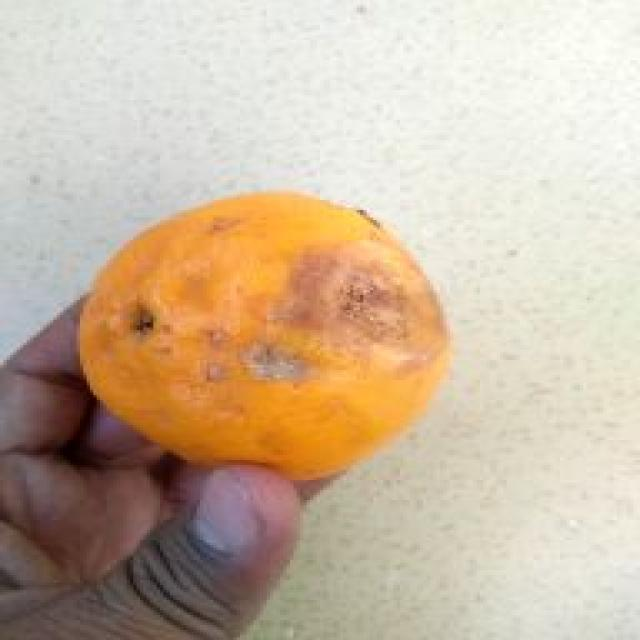Bad_Orange: (82, 194, 450, 478)
